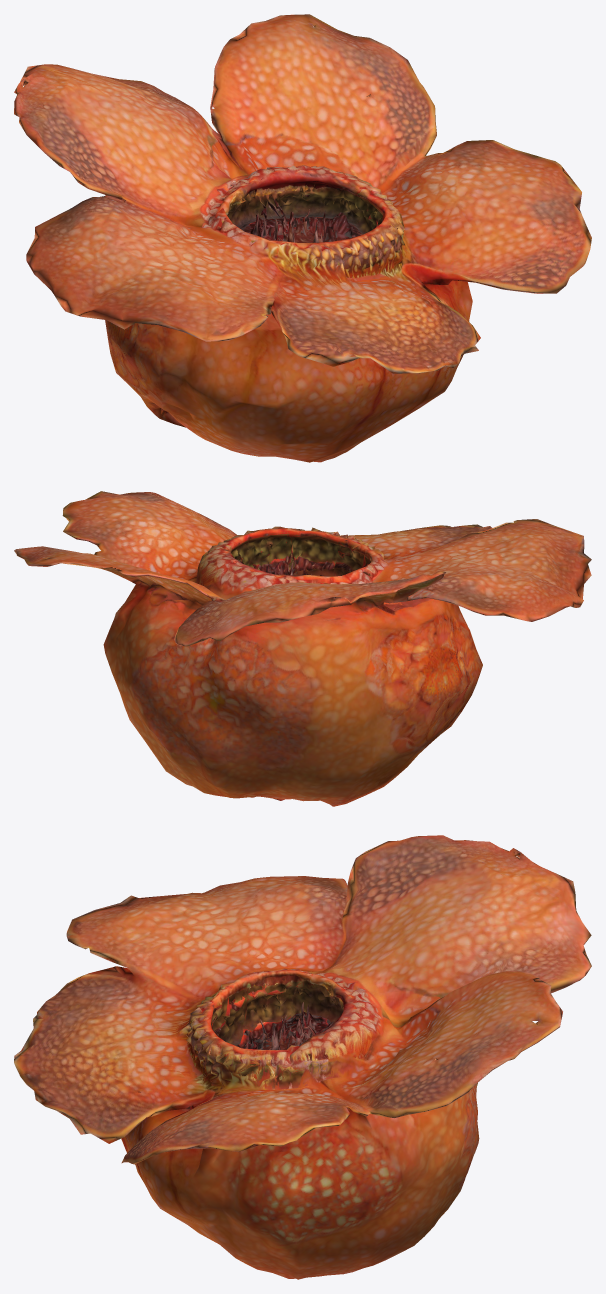
File: Rafflesia_Bloom_0603021825_texture.glb
3 renders of one model, top to bottom at view 1: azimuth 30°, elevation 25°; view 2: azimuth 150°, elevation 25°; view 3: azimuth 270°, elevation 25°, orthographic. The views are drawn at different scales.
Bounding box in the file's own units: 2 × 1.2 × 1.92.
1 material, 1 textured.
